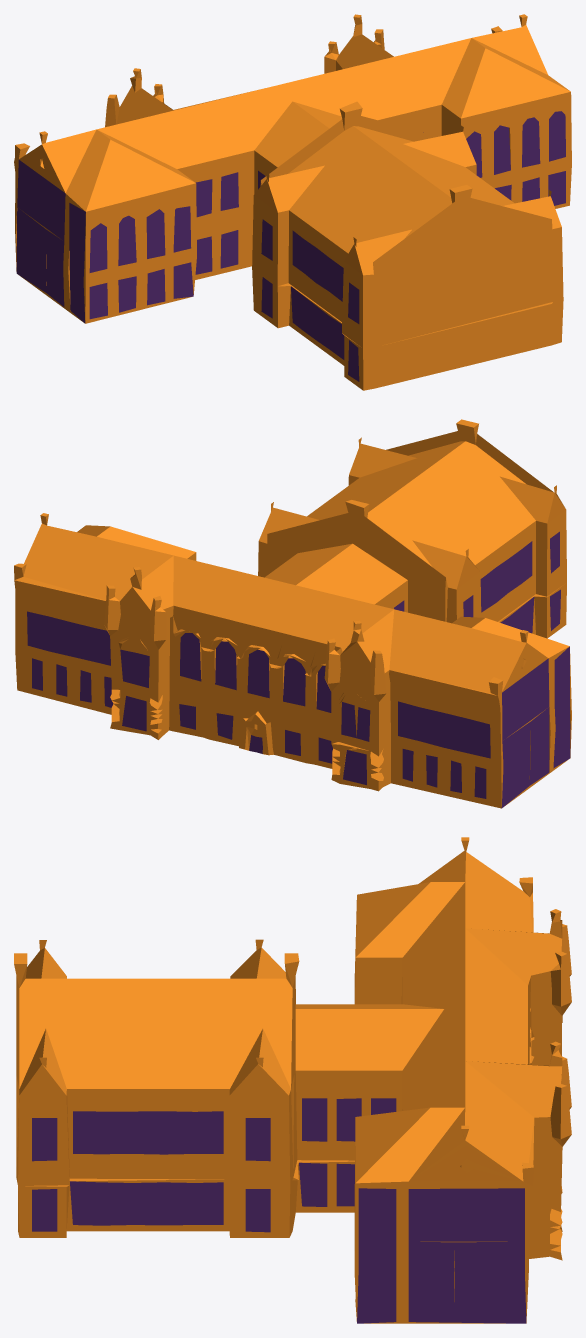
The model's file is Samochodówka_cz2V2.fbx.
3 views of the same model, one above another, from view 1: azimuth 30°, elevation 25°; view 2: azimuth 150°, elevation 25°; view 3: azimuth 270°, elevation 25° (orthographic). The views are drawn at different scales.
Visible parts, largest first — view 1: samochodowka_cz2; view 2: samochodowka_cz2; view 3: samochodowka_cz2.
Boxes of the visible parts, x1,y1,x2,y2 form: samochodowka_cz2: (14,14,571,390); samochodowka_cz2: (14,419,571,808); samochodowka_cz2: (14,837,571,1323).
Size of the model in its own units: 39.7 by 14.01 by 31.93.
Materials: 1 (1 with a texture image).
